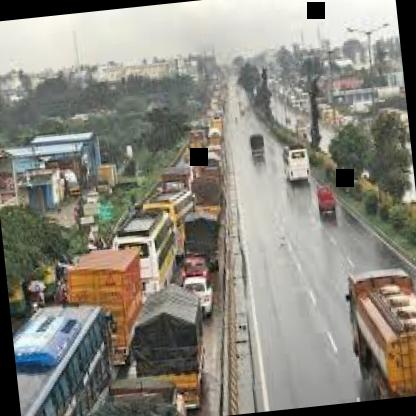car: (326, 248, 416, 403), (302, 178, 366, 224), (274, 135, 318, 190), (239, 132, 269, 162)
